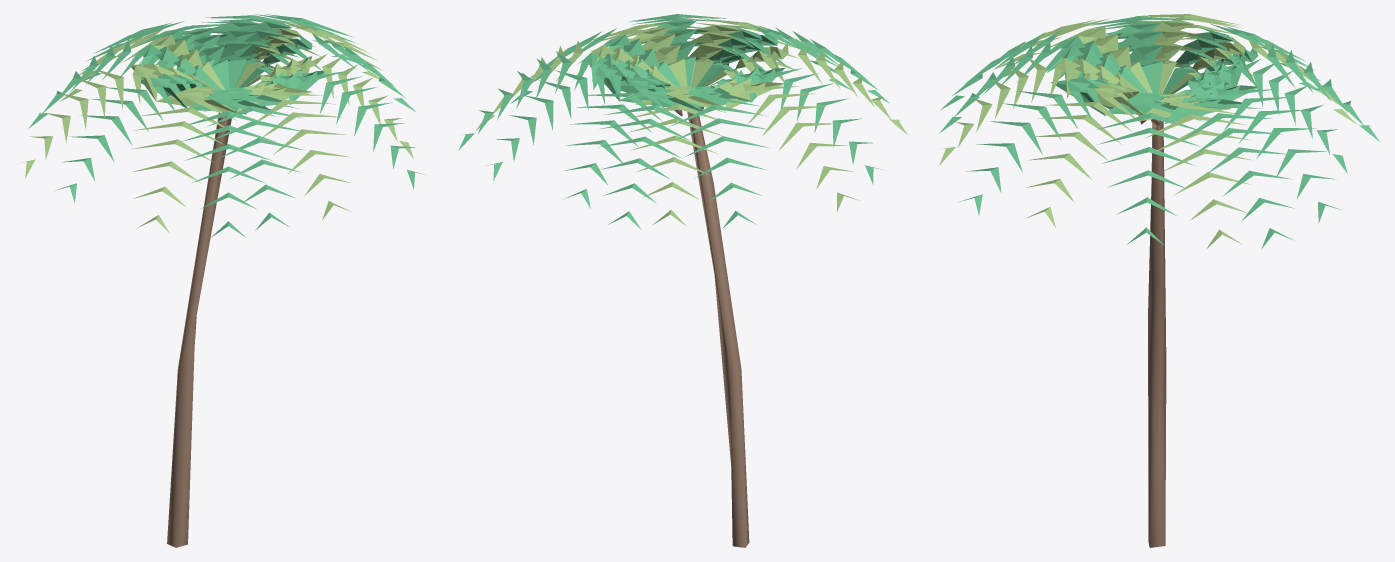
File: palm_2_lod.glb
3 views of the same model, side by side, from view 1: azimuth 30°, elevation 25°; view 2: azimuth 150°, elevation 25°; view 3: azimuth 270°, elevation 25° (orthographic). The views are drawn at different scales.
Visible parts, largest first — view 1: Palm_Frond; view 2: Palm_Frond; view 3: Palm_Frond.
Part boxes in pixels (x1,y1,x2,y2): Palm_Frond: (22,14,425,547); Palm_Frond: (458,14,908,547); Palm_Frond: (939,14,1380,547).
Bounding box in the file's own units: 9.12 × 11.08 × 8.76.
